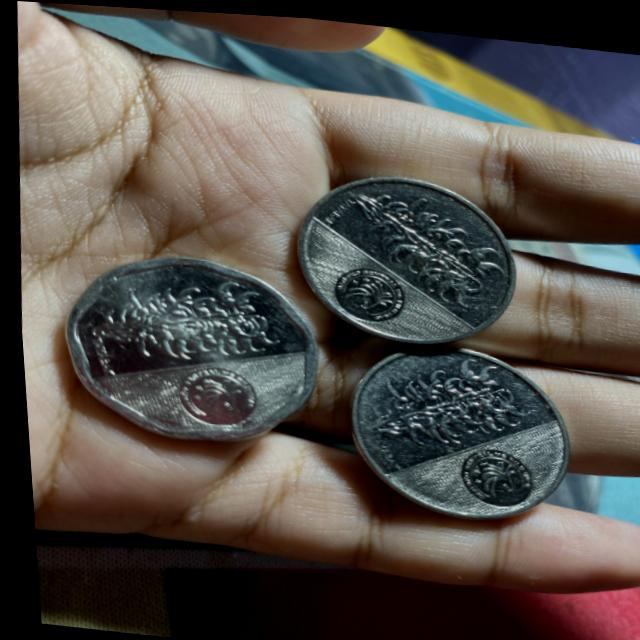5_New_Back: (80, 264, 289, 374), (364, 352, 527, 456), (348, 190, 502, 296)
